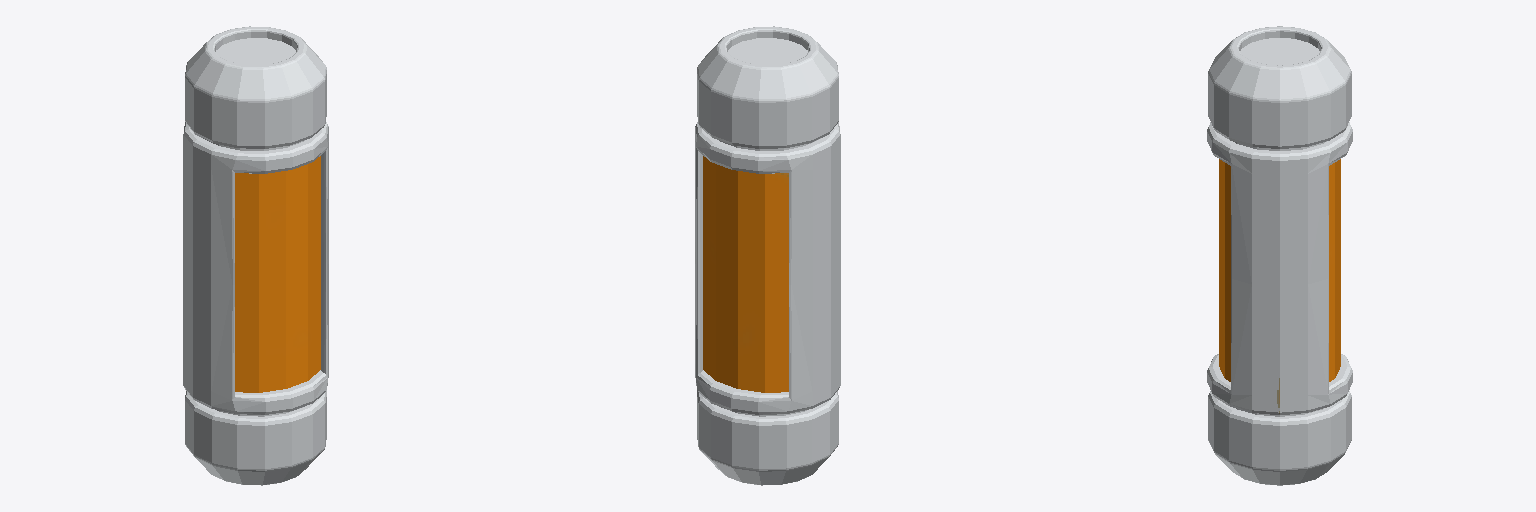
3 views of the same model, side by side, from view 1: azimuth 30°, elevation 25°; view 2: azimuth 150°, elevation 25°; view 3: azimuth 270°, elevation 25° (orthographic).
Parts seen in each view (by area): view 1: Cylinder_Cylinder.001; view 2: Cylinder_Cylinder.001; view 3: Cylinder_Cylinder.001.
Boxes of the visible parts, <box> form: Cylinder_Cylinder.001: <box>183,26,328,485</box>; Cylinder_Cylinder.001: <box>695,26,840,485</box>; Cylinder_Cylinder.001: <box>1207,26,1352,485</box>.
Bounding box in the file's own units: 2 × 6.3 × 2.
Materials: 1 (1 with a texture image).